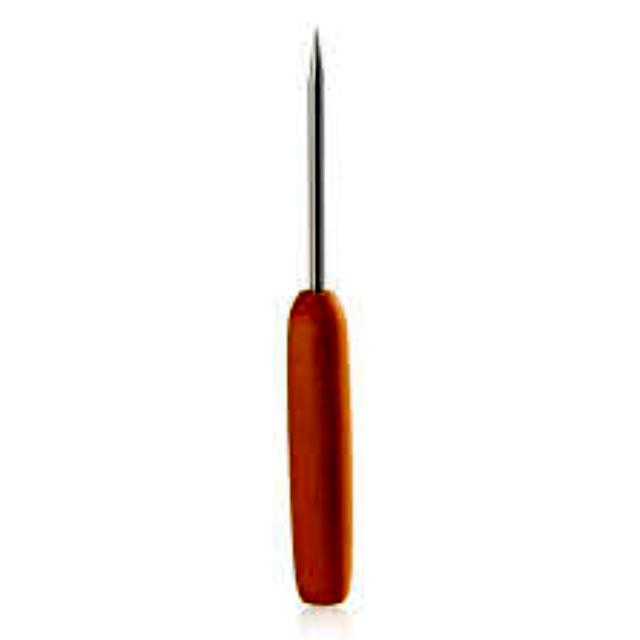ice pick: (247, 25, 403, 622)
